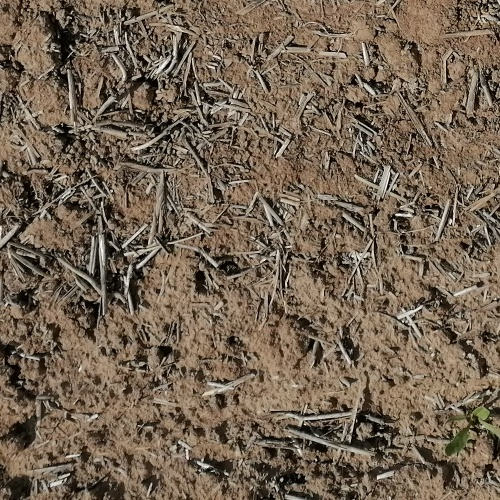beet: (445, 403, 500, 458)
